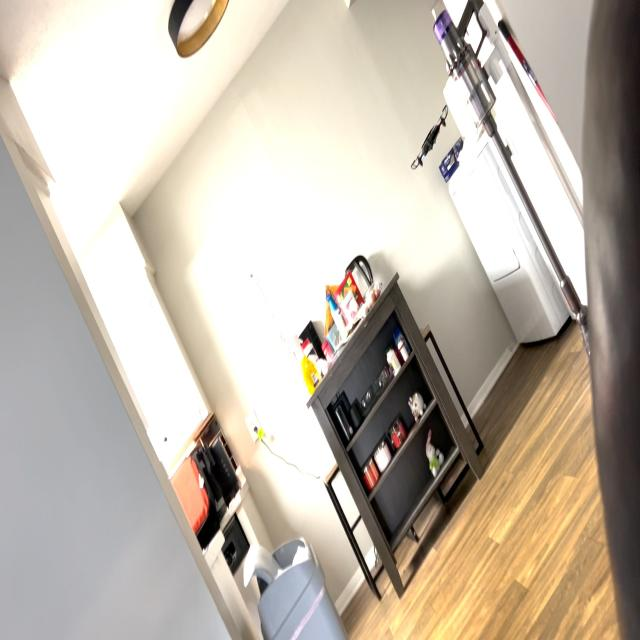drone: (404, 90, 453, 180)
